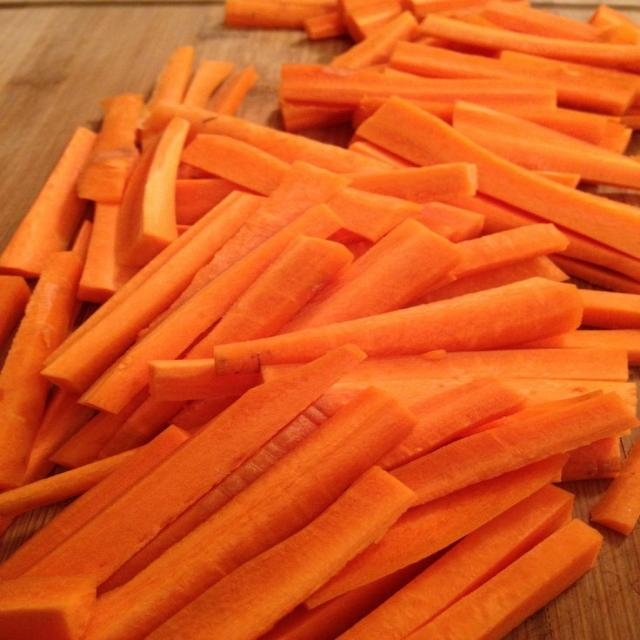carrot: (94, 389, 414, 639), (27, 346, 364, 581), (82, 206, 339, 411), (81, 236, 352, 412), (100, 401, 335, 592), (150, 468, 411, 639), (359, 98, 639, 257), (44, 194, 261, 391), (307, 455, 566, 607), (340, 485, 573, 639), (214, 278, 581, 373), (47, 194, 243, 364), (145, 205, 340, 358), (0, 427, 188, 579), (394, 394, 636, 503), (177, 162, 347, 304), (408, 520, 602, 639), (280, 219, 459, 333), (0, 252, 81, 488), (390, 43, 634, 116), (147, 103, 385, 173), (454, 102, 639, 188), (208, 235, 353, 344), (0, 128, 95, 277), (379, 379, 524, 469), (263, 560, 428, 639), (420, 14, 639, 71), (201, 114, 385, 173), (280, 64, 523, 108), (116, 119, 188, 266), (453, 102, 625, 161), (342, 348, 628, 383), (500, 50, 639, 116), (0, 450, 134, 515), (50, 392, 146, 467), (415, 256, 568, 303), (78, 94, 142, 203), (182, 134, 289, 195), (453, 224, 568, 278), (27, 389, 94, 480), (0, 575, 95, 639), (79, 203, 138, 304), (327, 187, 420, 242), (98, 397, 183, 457), (351, 163, 477, 203), (331, 12, 417, 68), (482, 0, 599, 41), (554, 223, 639, 279), (500, 378, 637, 411), (149, 359, 259, 400), (518, 329, 639, 365), (591, 445, 639, 535), (175, 178, 246, 225), (553, 256, 639, 294), (225, 0, 336, 29), (147, 46, 194, 109), (414, 202, 484, 242), (173, 392, 241, 431), (341, 0, 402, 43), (562, 438, 621, 481), (182, 61, 233, 108), (209, 66, 258, 114), (580, 290, 639, 328), (280, 100, 352, 131), (0, 275, 31, 347), (349, 137, 416, 170), (407, 0, 486, 17), (303, 11, 346, 40), (589, 4, 639, 28), (71, 219, 93, 261)
